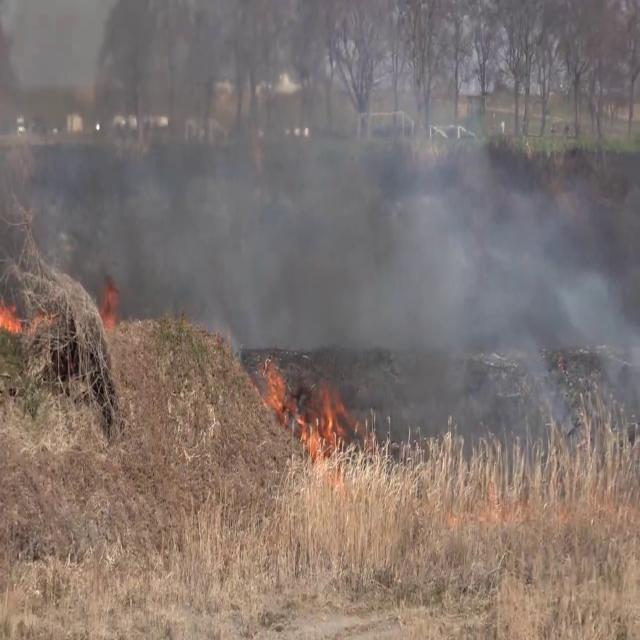Fire: (297, 374, 347, 452), (250, 348, 293, 419), (0, 290, 24, 340)
Smoke: (0, 9, 638, 416)
